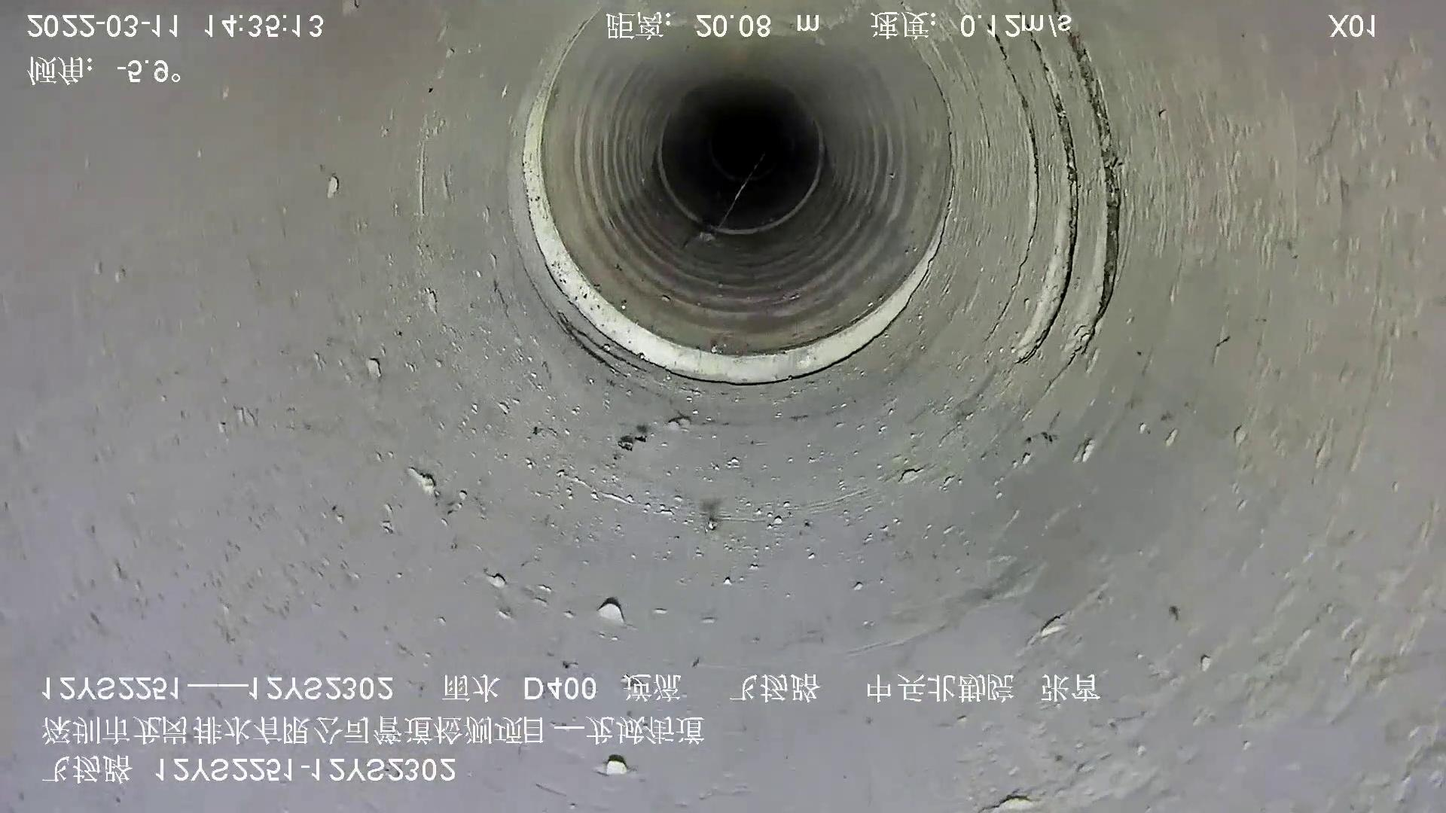CKTJ: (519, 91, 947, 384)
PL: (987, 25, 1134, 391)
